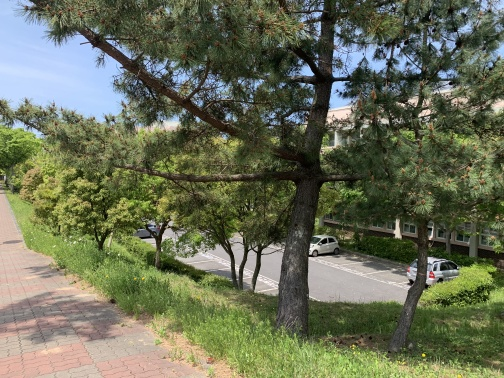College Of Education: (303, 80, 504, 269)
